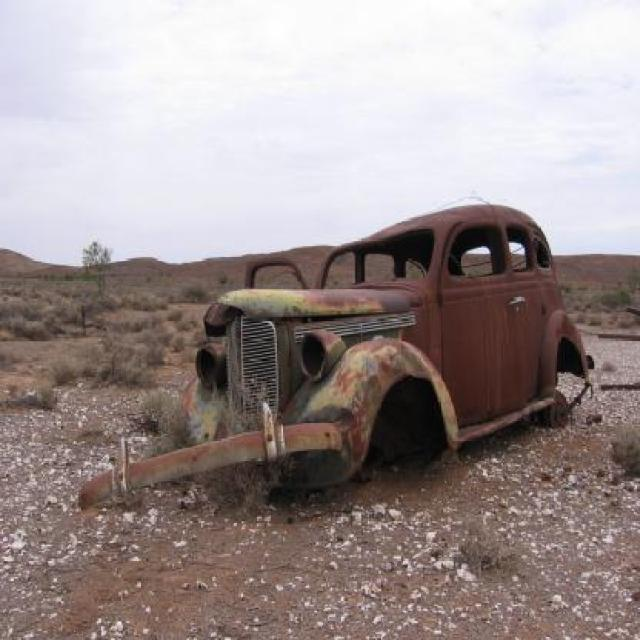corrosion: (72, 201, 592, 528)
